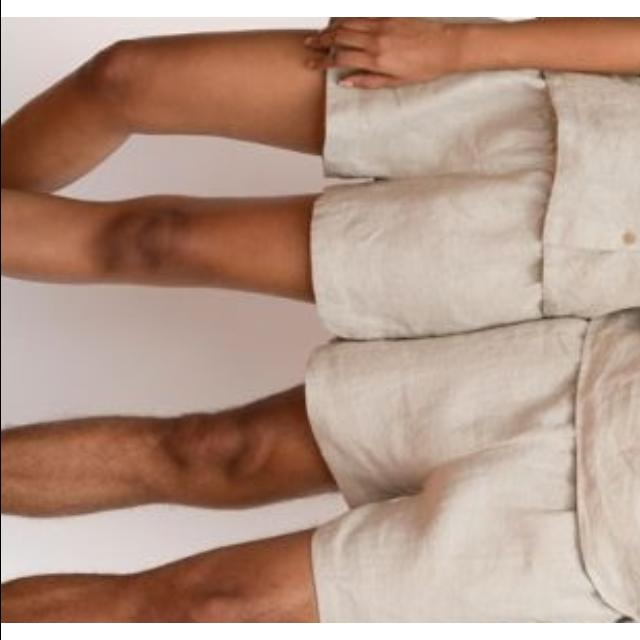linen: (302, 17, 640, 623)
